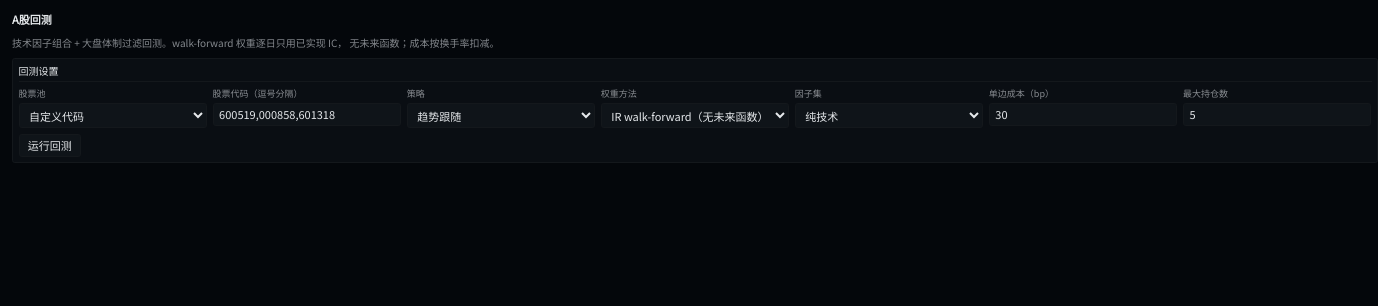
Test: AshareBacktestPage › 运行回测:POST 参数拼装正确,裸 dict 的 metrics 渲染到统计块
Step 1. Click the button "运行回测" → click(50, 145), box [18,134,81,157]
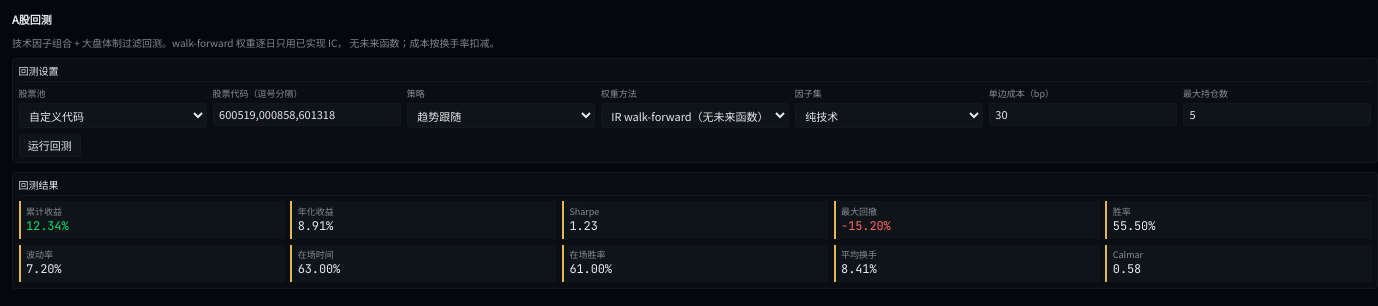
Expected: the text "12.34%" is shown, [26,218,68,234]
Expected: the text "8.91%" is shown, [298,218,333,234]
Expected: the text "1.23" is shown, [569,218,598,234]
